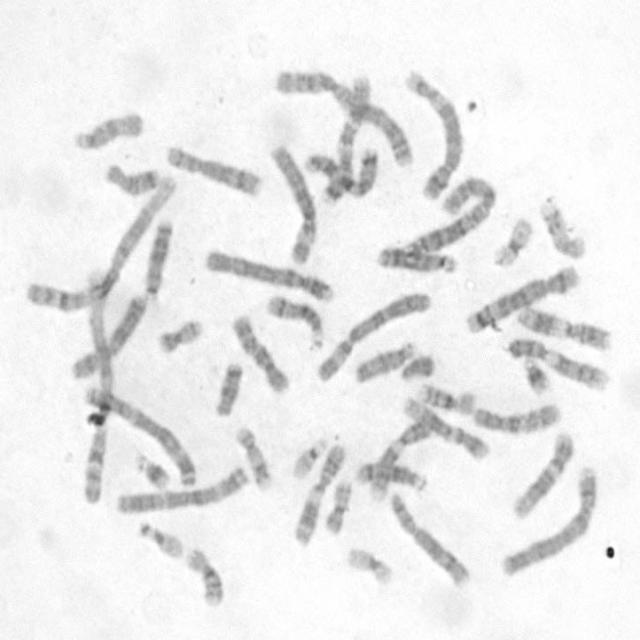A1: (23, 168, 178, 314), (77, 261, 115, 508)
A2: (271, 64, 416, 169), (402, 172, 499, 256)
A3: (79, 385, 199, 488), (111, 463, 250, 515)
B4: (496, 463, 600, 579), (201, 245, 336, 305)
B5: (462, 260, 582, 336), (402, 65, 464, 204)
C10: (227, 310, 292, 394), (471, 400, 562, 436)
C11: (290, 442, 346, 548), (512, 300, 614, 353)
C12: (399, 392, 491, 463), (508, 427, 576, 521)
C6: (312, 289, 433, 384), (266, 138, 320, 265)
C7: (317, 70, 373, 206), (302, 142, 381, 199)
C8: (388, 488, 472, 588), (162, 141, 263, 200)
C9: (365, 412, 435, 502), (503, 334, 609, 392)
D13: (372, 240, 460, 276), (140, 214, 176, 301)
D14: (262, 291, 326, 352), (353, 458, 428, 492)
D15: (70, 106, 145, 152), (351, 335, 418, 385)
E16: (183, 544, 225, 607), (414, 378, 479, 417)
E17: (534, 194, 588, 261), (231, 421, 272, 492)
E18: (100, 158, 162, 196), (212, 358, 244, 419)
F19: (489, 213, 534, 269), (344, 545, 394, 587)
F20: (153, 314, 206, 356), (321, 474, 353, 537)
G21: (132, 449, 172, 492), (520, 350, 552, 396)
G22: (135, 518, 185, 561), (288, 432, 330, 482)
X: (67, 291, 149, 381)
Y: (397, 350, 436, 383)
